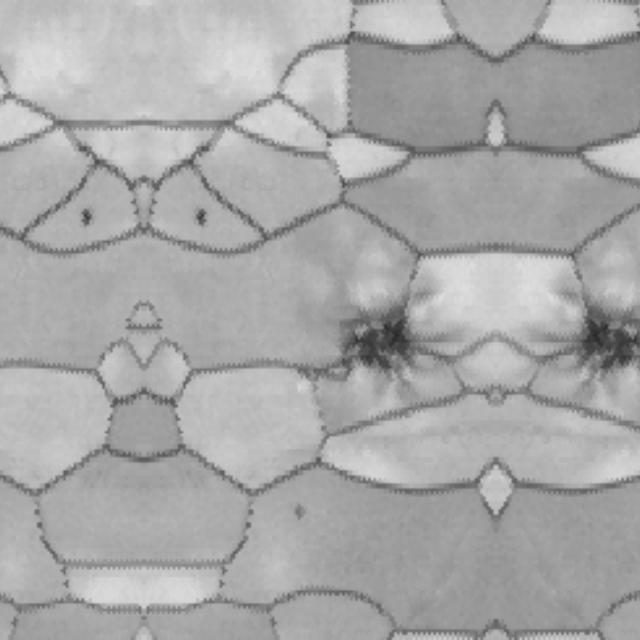good_void: (333, 300, 448, 384), (546, 300, 640, 384), (190, 206, 225, 234), (64, 206, 98, 234), (295, 501, 307, 527)
